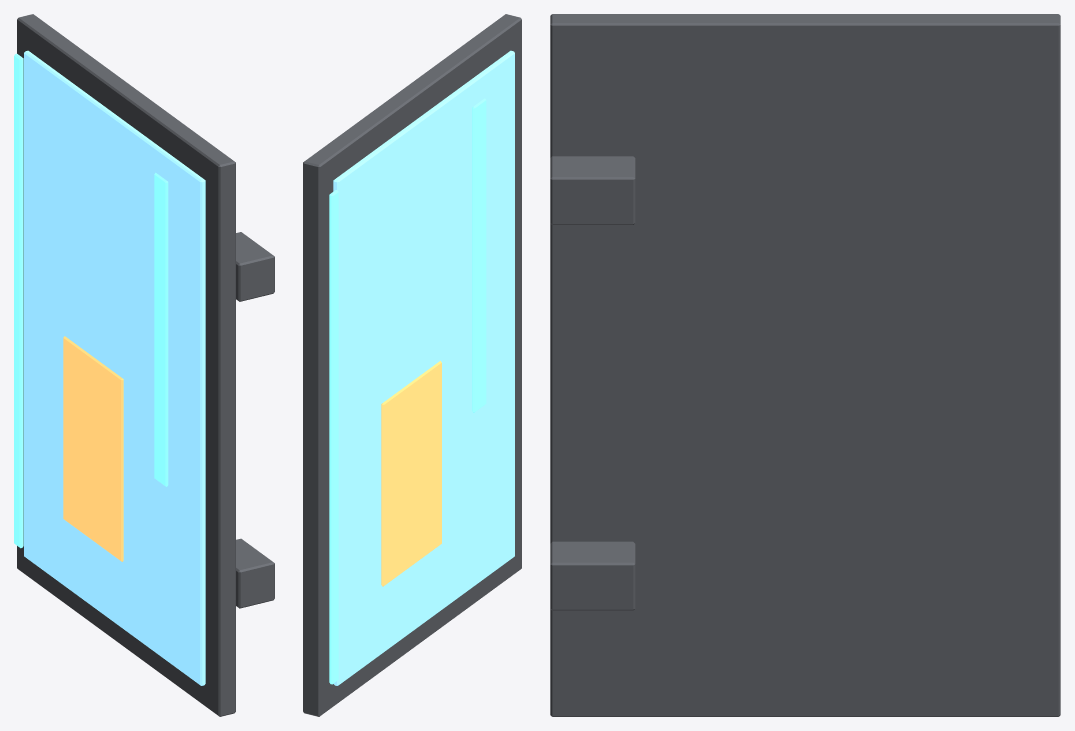
The model's file is ad_board_wide.glb.
3 renders of one model, left to right at view 1: azimuth 30°, elevation 25°; view 2: azimuth 150°, elevation 25°; view 3: azimuth 270°, elevation 25°, orthographic. The views are drawn at different scales.
Visible parts, largest first — view 1: AdBoard_wide; view 2: AdBoard_wide; view 3: AdBoard_wide.
Part boxes in pixels (x1,y1,x2,y2): AdBoard_wide: (14, 14, 274, 716); AdBoard_wide: (303, 14, 521, 716); AdBoard_wide: (550, 14, 1060, 716).
Size of the model in its own units: 0.445 by 3.6 by 2.4.
